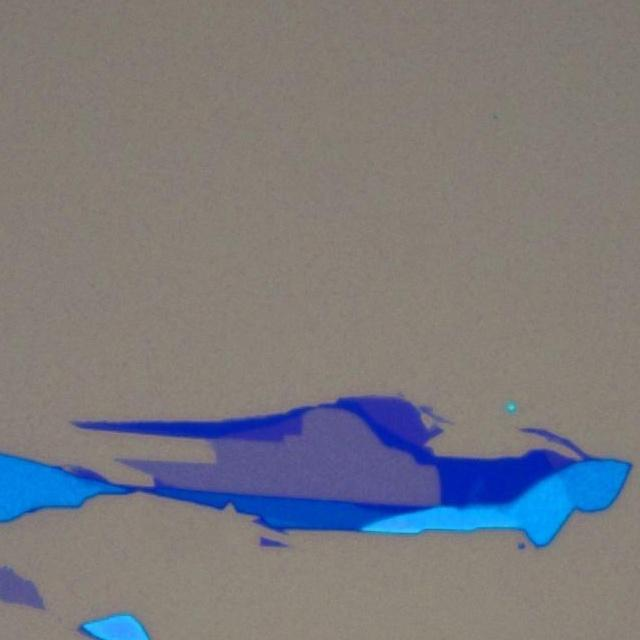monolayer-eWW4: (118, 403, 440, 506)
